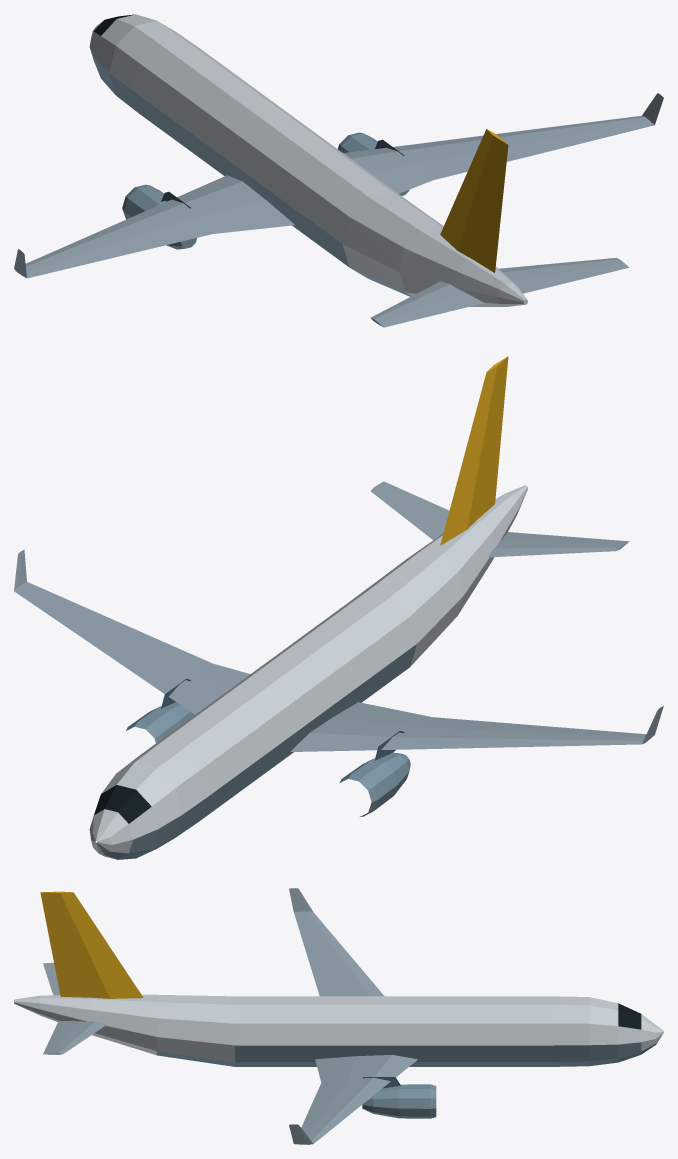
3 views of the same model, one above another, from view 1: azimuth 30°, elevation 25°; view 2: azimuth 150°, elevation 25°; view 3: azimuth 270°, elevation 25° (orthographic). The views are drawn at different scales.
Parts seen in each view (by area): view 1: lod0; view 2: lod0; view 3: lod0.
Part boxes in pixels (bbox=[...]): lod0: bbox=[14, 14, 663, 327]; lod0: bbox=[14, 356, 663, 859]; lod0: bbox=[14, 888, 663, 1144].
Size of what is drawn, in the model's own units: 0.8595 by 0.3137 by 1.
